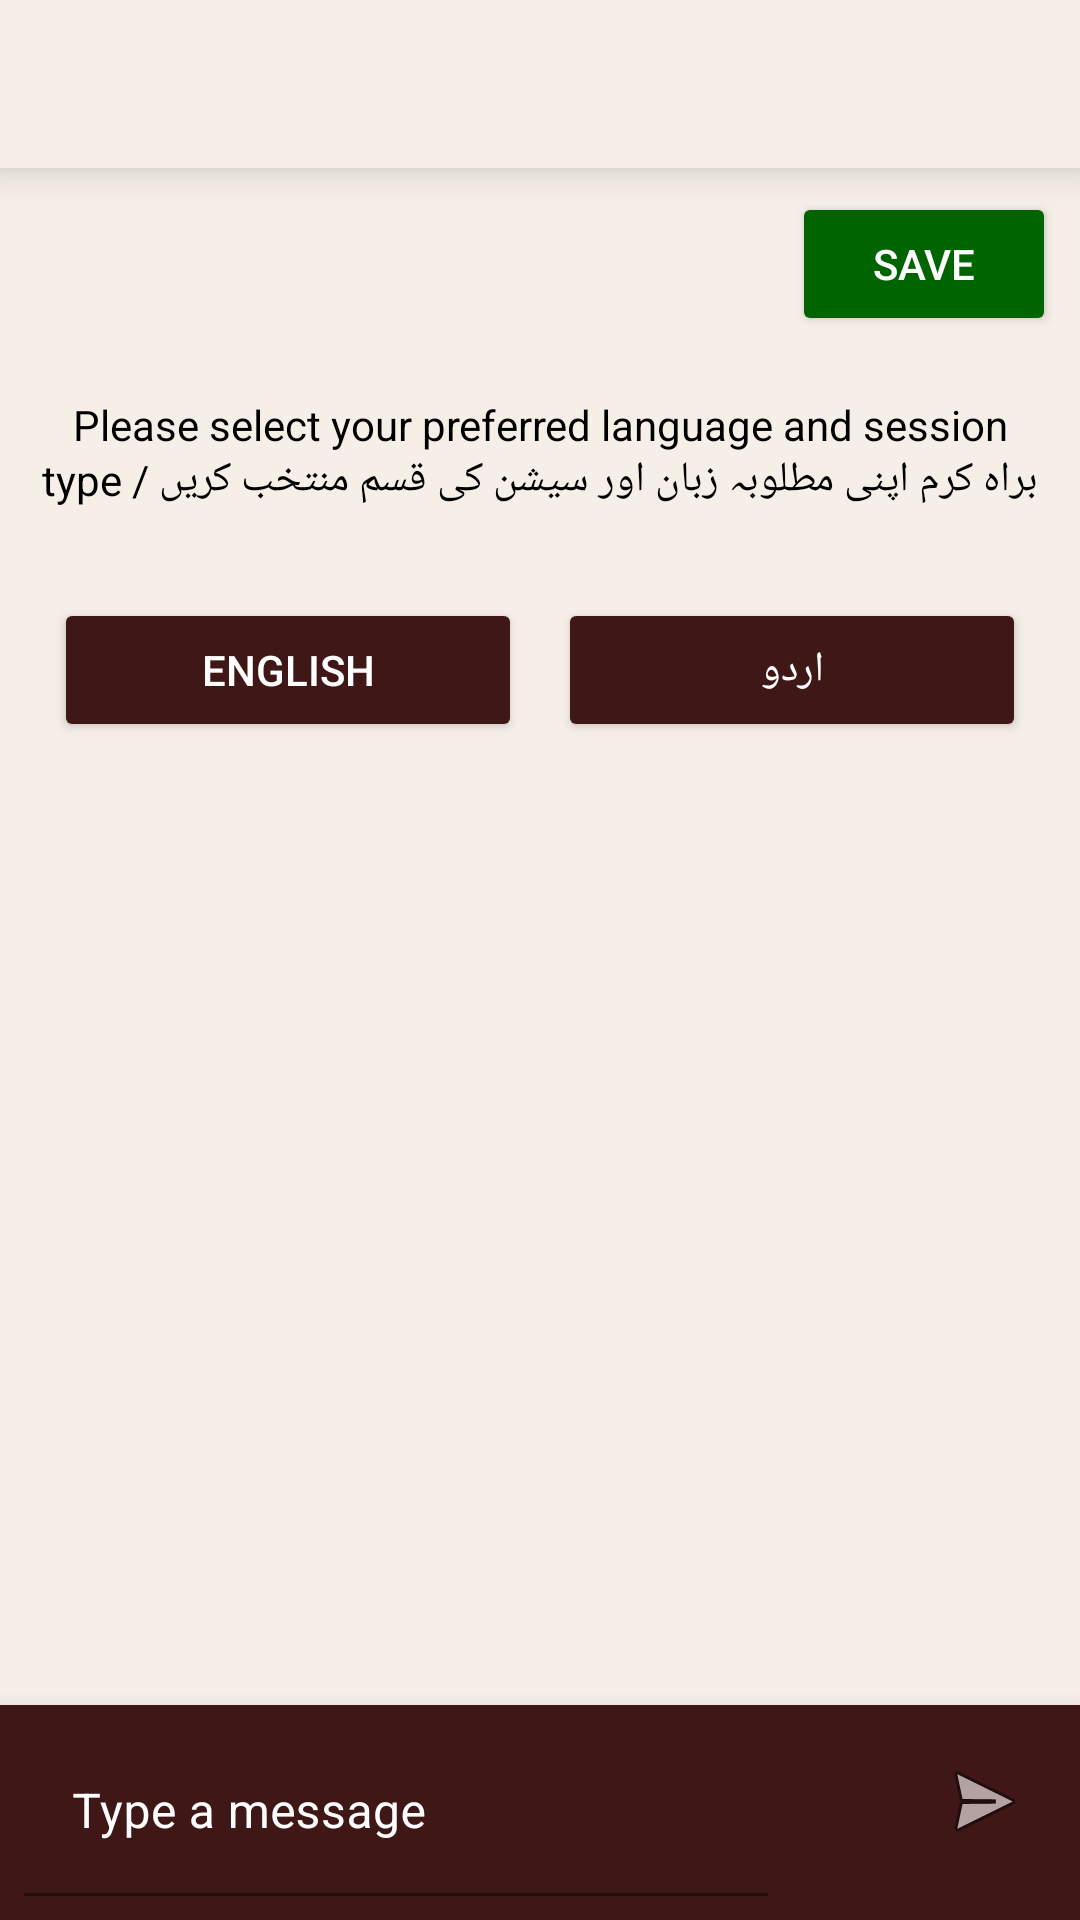

Screen size 1080x1920. Icon name, then its box in pixels as [left=x1, top=y1, right=x2, bottom=y2]:
send: [left=955, top=1772, right=1015, bottom=1831]
